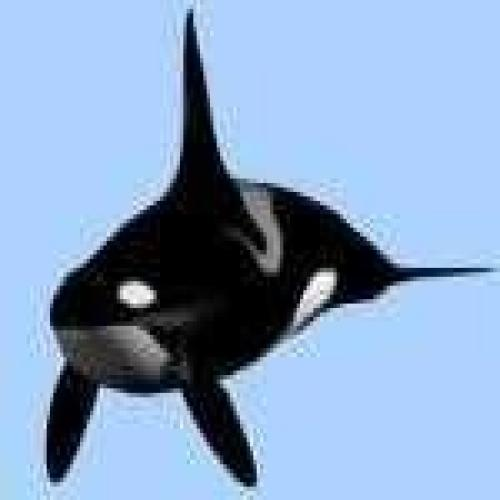killer_whale-endangered: (39, 95, 418, 399)
